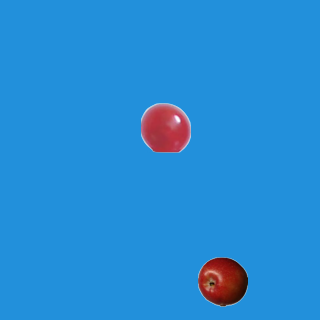Apple Braeburn: (197, 256, 247, 306)
Redcurrant: (140, 102, 190, 152)
